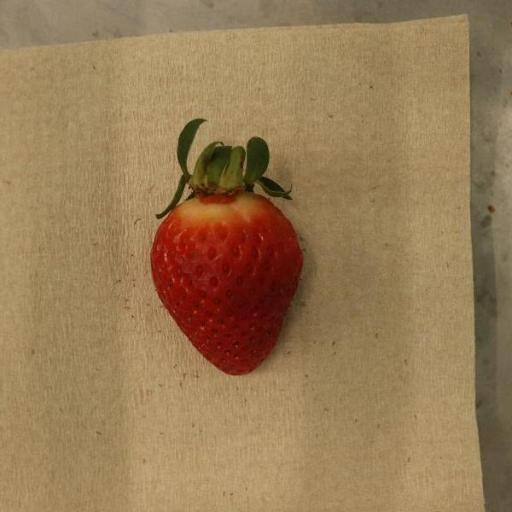Strawberry: (151, 119, 304, 376)
